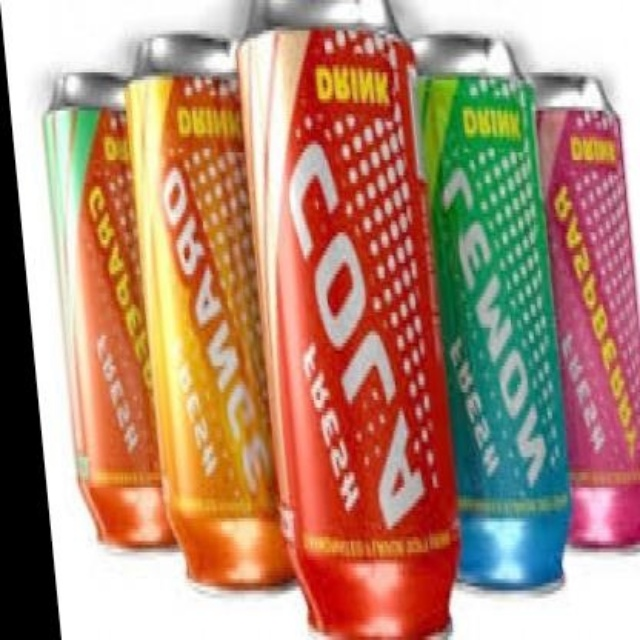trash: (238, 29, 457, 638), (126, 35, 292, 586), (414, 34, 568, 586), (46, 72, 171, 546), (532, 74, 638, 545)
